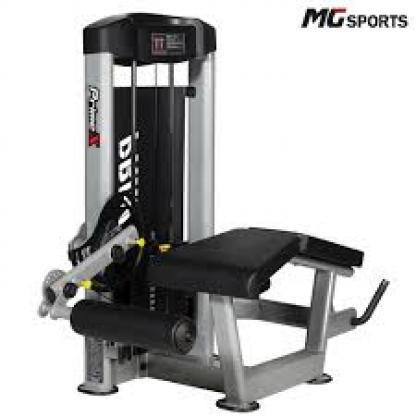reg curl machine: (24, 5, 413, 414)
